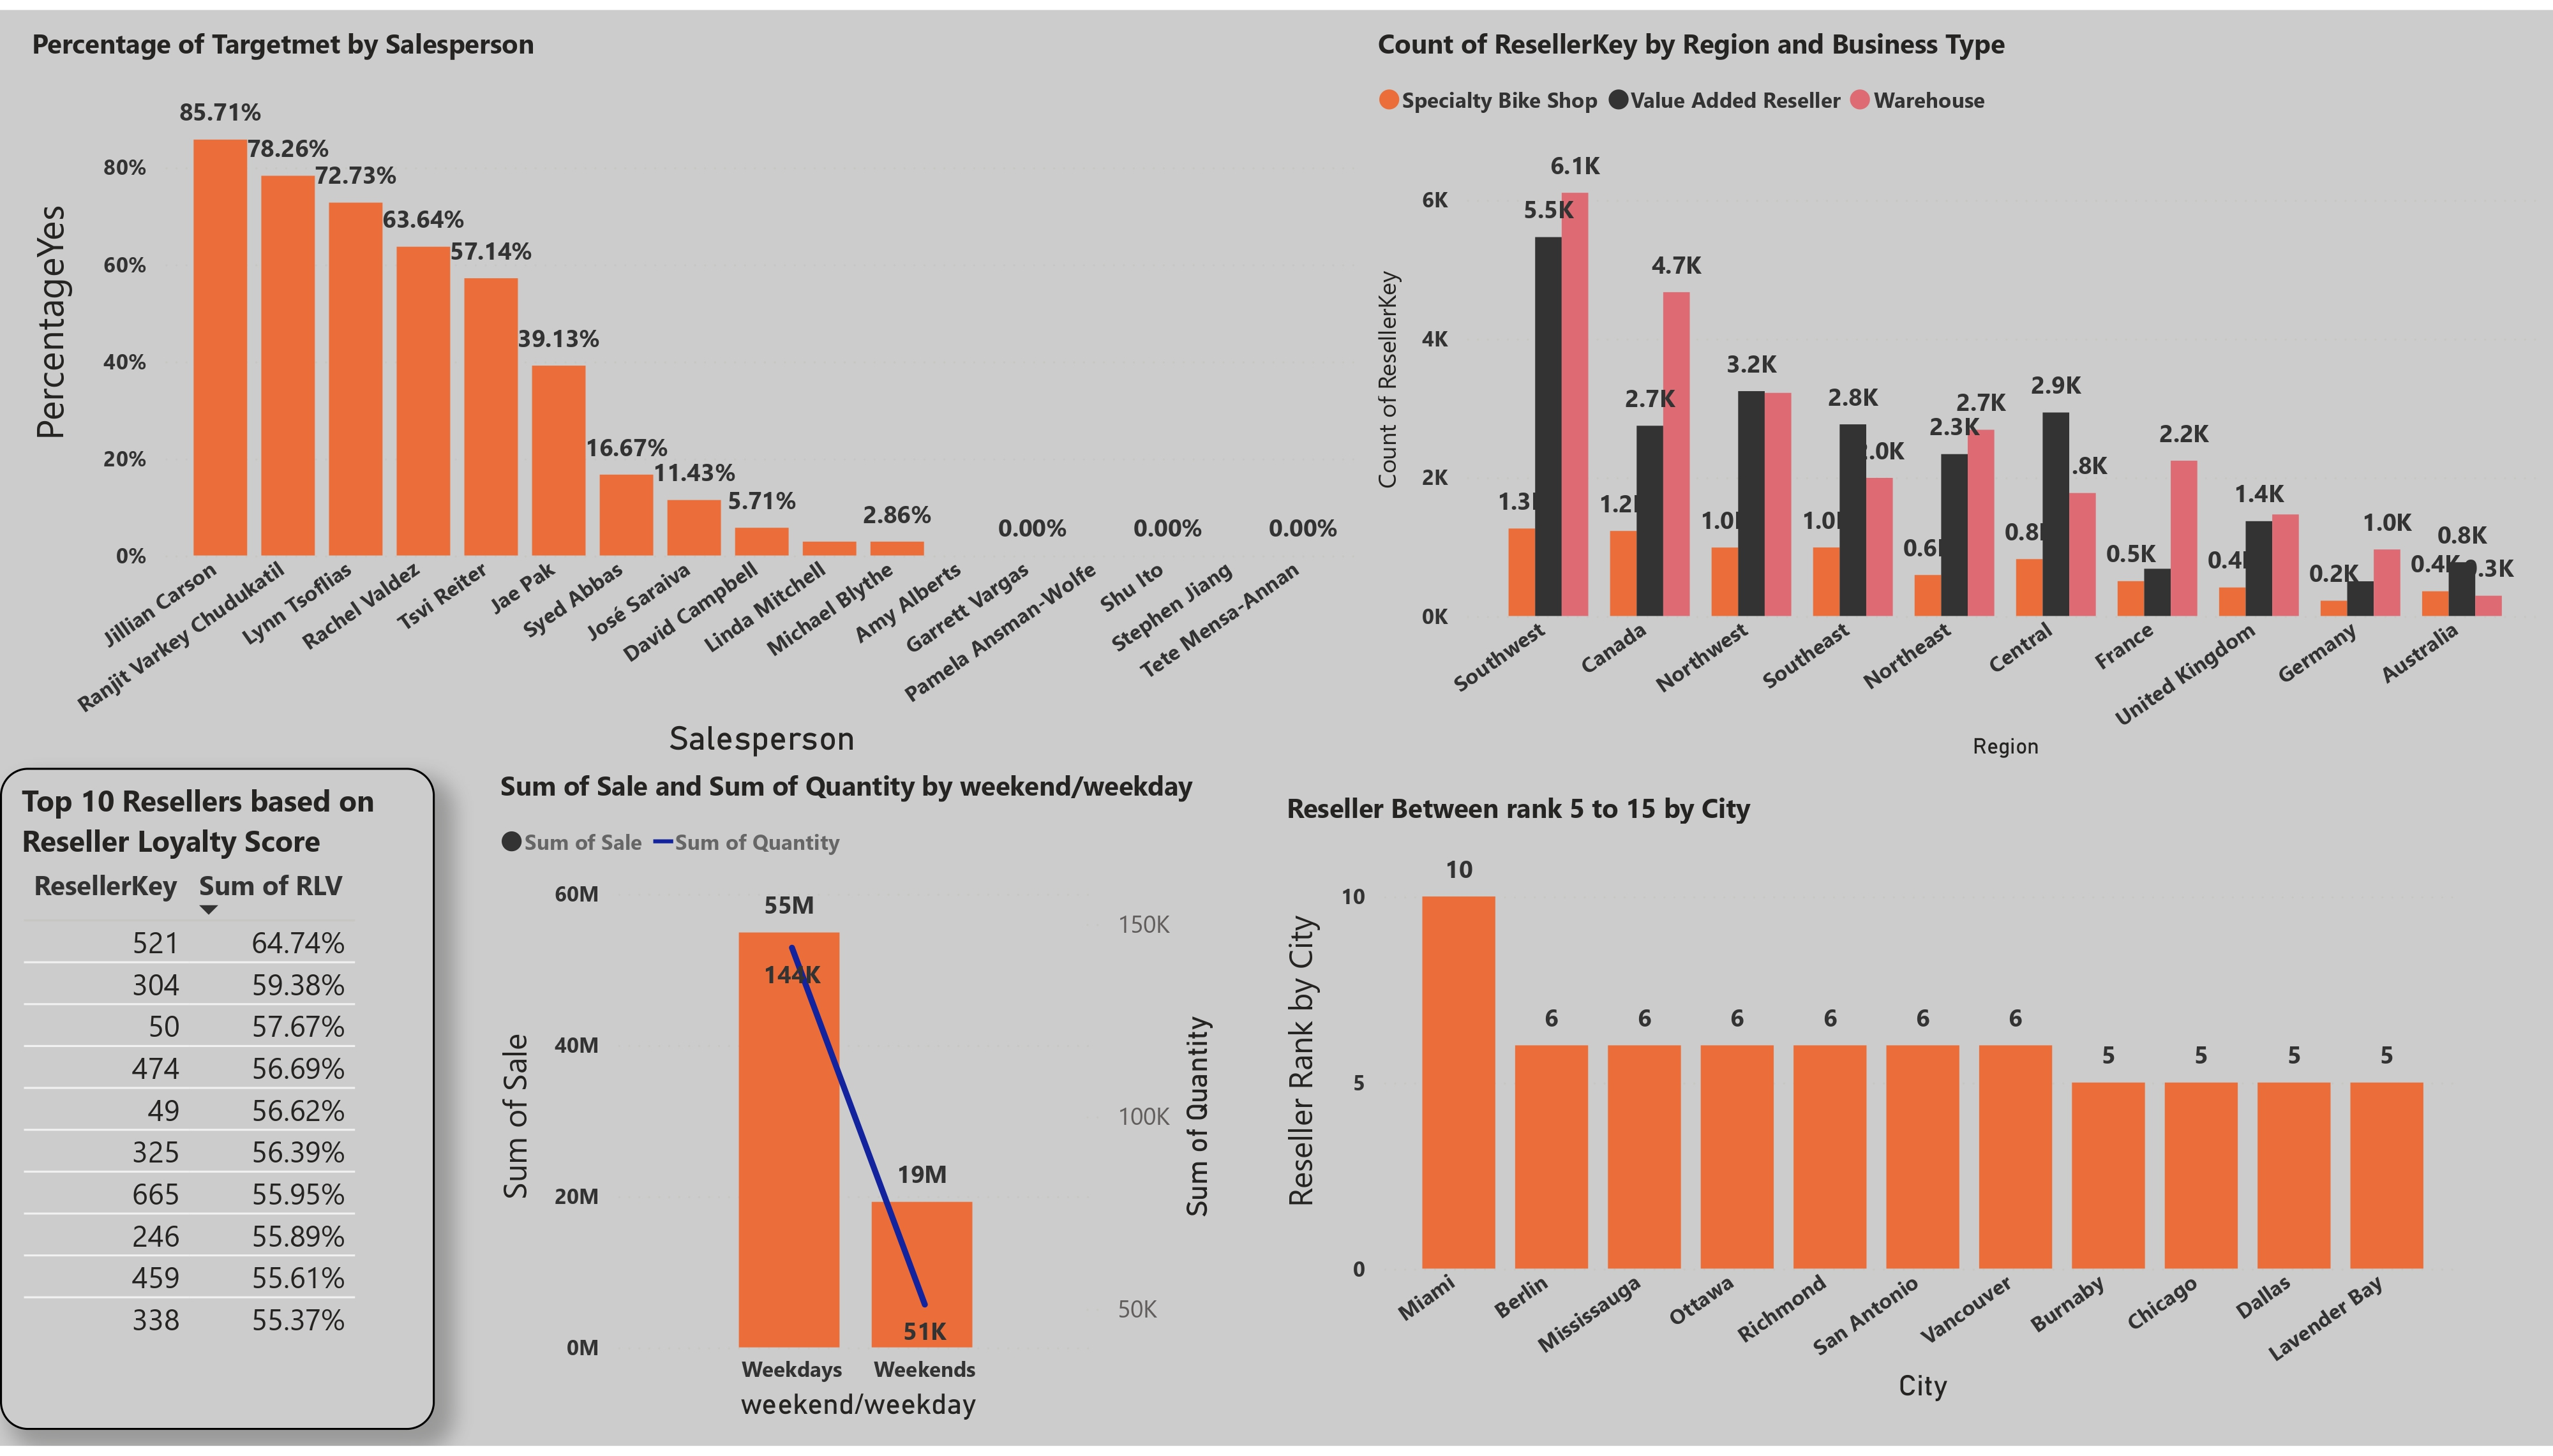

This screenshot's page, from the dashboard's own definition file:
{"tool":"powerbi","page":{"name":"5","canvas":[1280,720],"ordinal":4},"visuals":[{"type":"clusteredColumnChart","title":"Percentage of Targetmet by Salesperson","fields":{"Category":["EmployeePerformanceSummary.Salesperson"],"Y":["Targets.PercentageYes"]},"box":[10.8,8.4,674.8,371.5],"z":0},{"type":"columnChart","title":"Reseller Between rank 5 to 15 by City","fields":{"Category":["Reseller.City"],"Y":["Table.Reseller Rank by City"]},"box":[640,390.7,599.3,311.6],"z":1000},{"type":"tableEx","title":"Top 10 Resellers  based on Reseller Loyalty Score","fields":{"Values":["Reseller.ResellerKey","Sum(Reseller.RLV)"]},"box":[0,379.9,218.1,332],"z":2000},{"type":"lineClusteredColumnComboChart","title":"Sum of Sale and Sum of Quantity by weekend/weekday","fields":{"Category":["Sales.weekend/weekday"],"Y":["Sum(Sales.Sale)"],"Y2":["Sum(Sales.Quantity)"]},"box":[246.1,380,366.8,331.8],"z":3000},{"type":"clusteredColumnChart","fields":{"Category":["Sales.Region"],"Series":["Reseller.Business Type"],"Y":["CountNonNull(Sales.ResellerKey)"]},"box":[685.5,8.4,594.5,371.5],"z":4000}]}

Visuals, with their boxes in screenshot pixels (x1, y1, x2, y2), scaled from the page's 1280x720 canvas onto the 2553x1456 screenshot:
"Percentage of Targetmet by Salesperson" clusteredColumnChart: <box>22,17,1367,768</box>
"Reseller Between rank 5 to 15 by City" columnChart: <box>1276,790,2472,1420</box>
"Top 10 Resellers  based on Reseller Loyalty Score" tableEx: <box>0,768,435,1439</box>
"Sum of Sale and Sum of Quantity by weekend/weekday" lineClusteredColumnComboChart: <box>491,768,1222,1439</box>
clusteredColumnChart - Sales.Region x Reseller.Business Type: <box>1367,17,2552,768</box>
